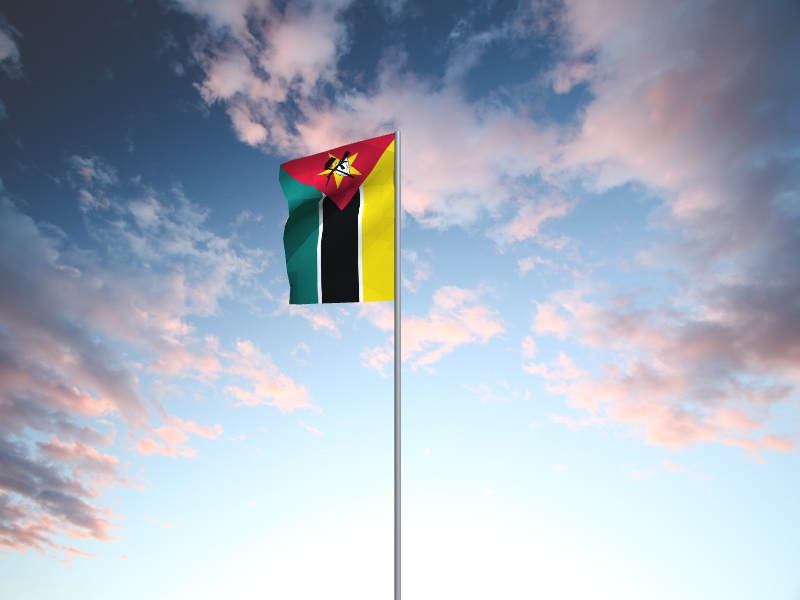mz: (278, 134, 395, 306)
